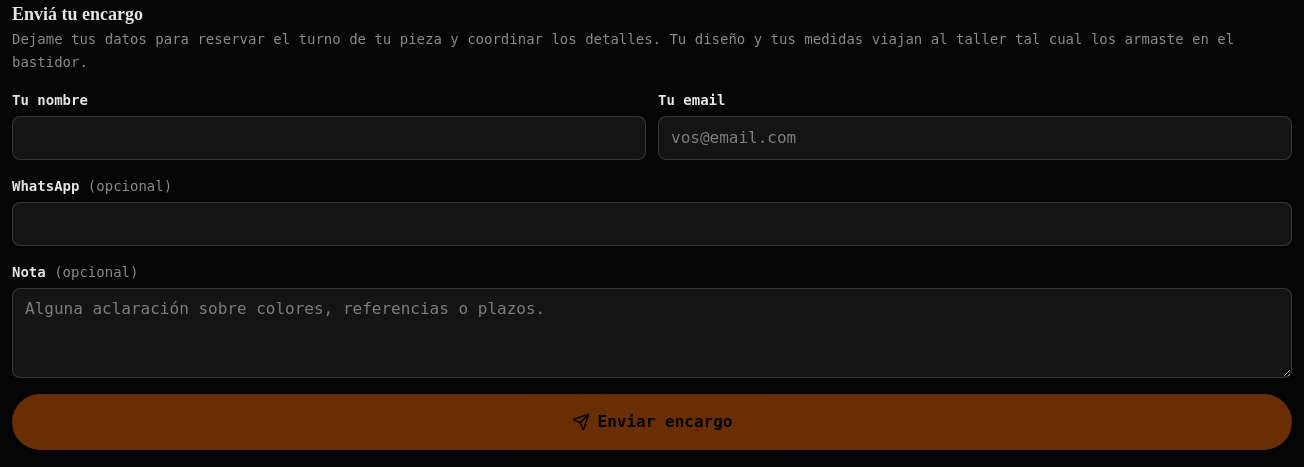
Test: OrderForm: el pago aparece solo después de enviar › después de enviar aparece el pago del total
Type "Clienta" into the field labelled "Tu nombre". click: (329,138)
box: x1=12 y1=116 x2=646 y2=160
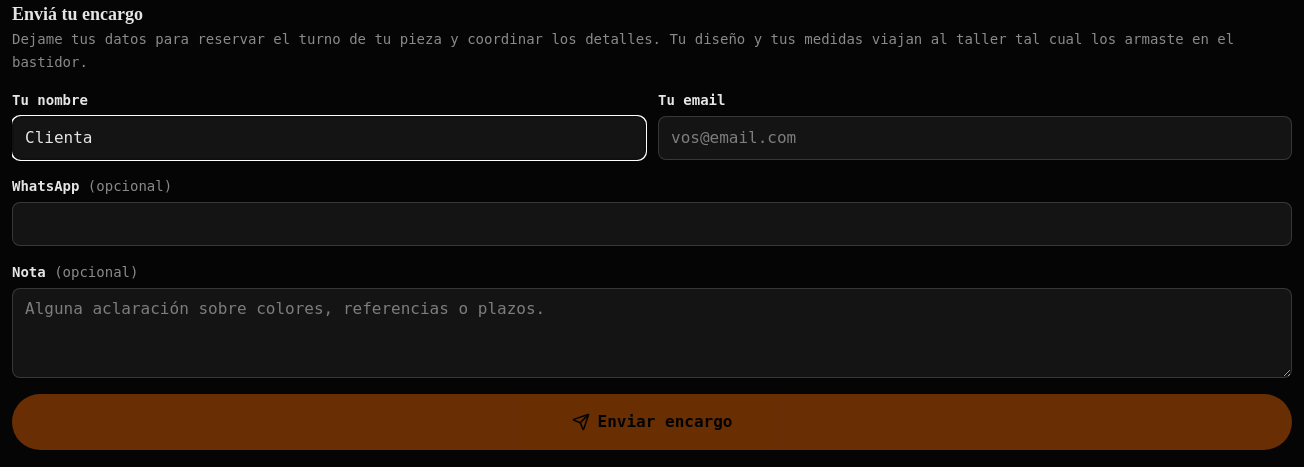
Type "clienta@example.com" into the field labelled "Tu email". click: (975,138)
box: x1=658 y1=116 x2=1292 y2=160
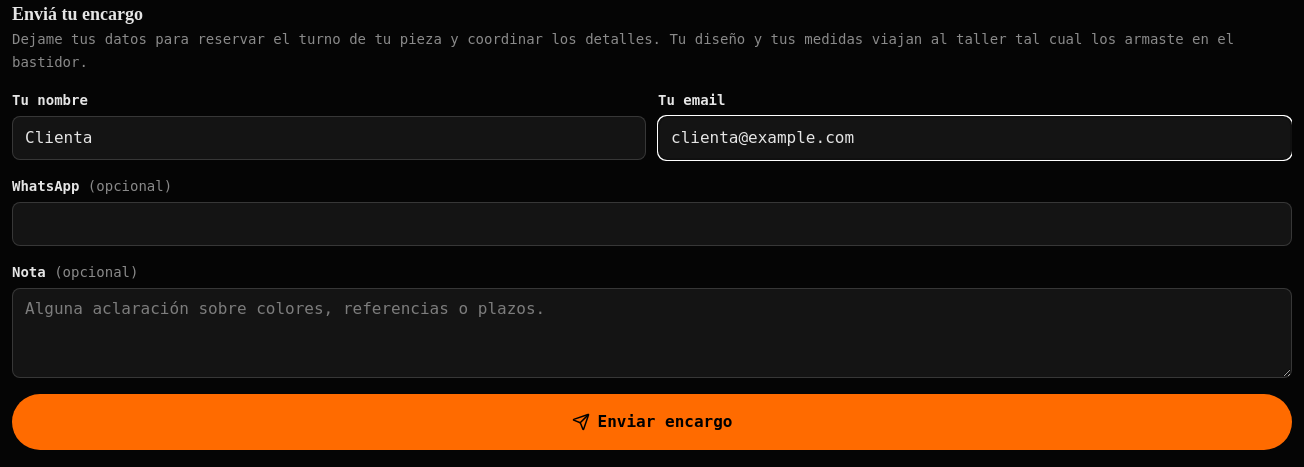
Click the button "Enviar encargo". click: (652,422)
box: x1=12 y1=394 x2=1292 y2=450
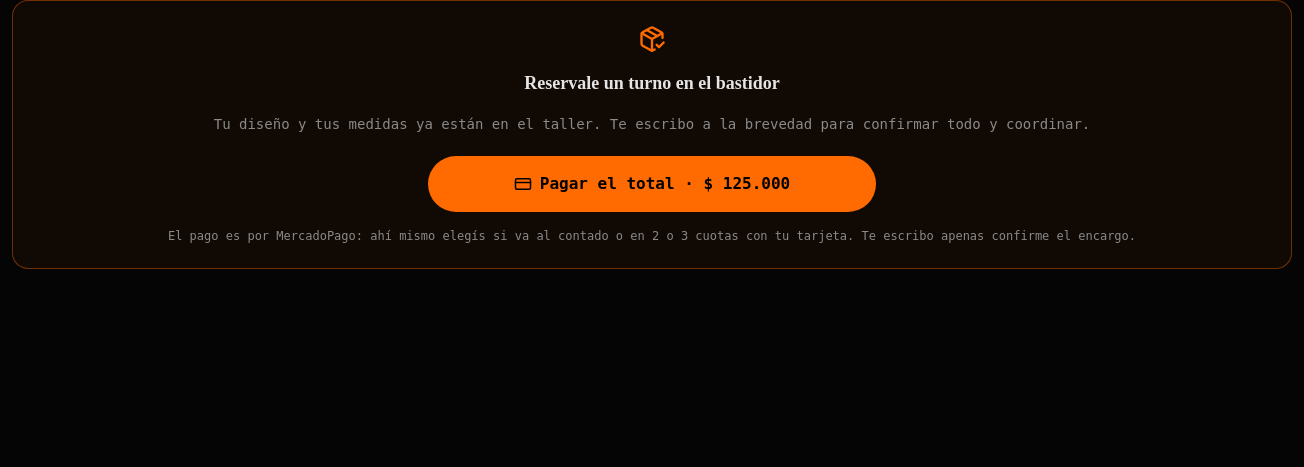
Expected: the text "Reservale un turno en el bastidor" is shown, x1=524 y1=69 x2=780 y2=97
Expected: the button "Pagar el total · $ 125.000" is shown, x1=428 y1=156 x2=876 y2=212
Expected: the text "2 o 3 cuotas con tu tarjeta" is shown, x1=168 y1=229 x2=1136 y2=243
